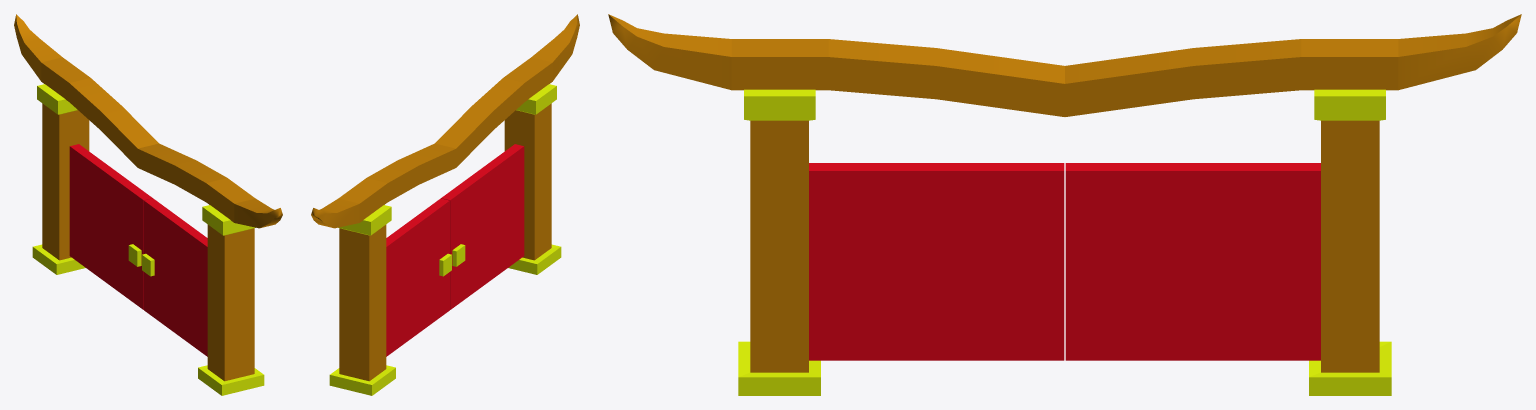
File: Gates.fbx
3 renders of one model, left to right at view 1: azimuth 30°, elevation 25°; view 2: azimuth 150°, elevation 25°; view 3: azimuth 270°, elevation 25°, orthographic. The views are drawn at different scales.
Parts seen in each view (by area): view 1: Cube.002, Cube.003, Cube.004; view 2: Cube.002, Cube.004, Cube.003; view 3: Cube.002, Cube.003, Cube.004.
Boxes of the visible parts, bbox=[...] form: Cube.002: bbox=[14, 14, 282, 395]; Cube.003: bbox=[69, 144, 152, 309]; Cube.004: bbox=[142, 198, 207, 356]; Cube.002: bbox=[311, 14, 579, 395]; Cube.004: bbox=[441, 144, 524, 309]; Cube.003: bbox=[386, 198, 451, 356]; Cube.002: bbox=[608, 14, 1521, 395]; Cube.003: bbox=[1065, 163, 1320, 360]; Cube.004: bbox=[809, 163, 1064, 360].
Bounding box in the file's own units: 244 × 1160 × 2638.
